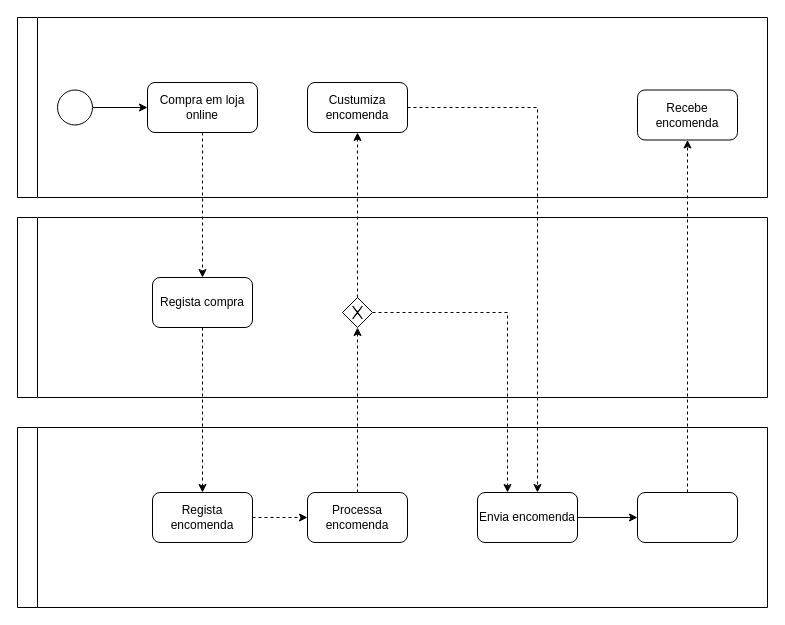
Some shapes in this 785 by 625 pixel diagram are drawn without their labels. Each missing label, with the box of its shape:
Cliente: (16, 16, 768, 198)
Entrega encomenda: (636, 492, 738, 542)
Retalhista online: (16, 216, 768, 398)
Sistema entregas: (16, 426, 768, 608)
